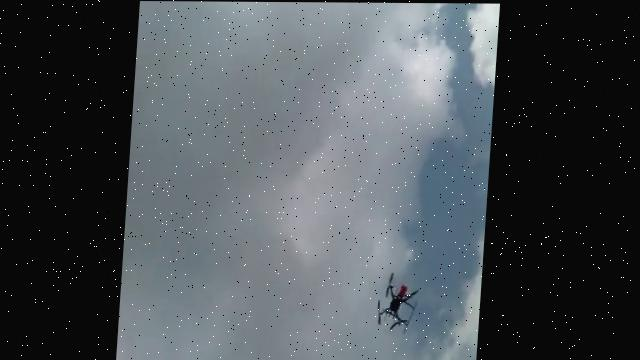drone: (376, 261, 429, 336)
